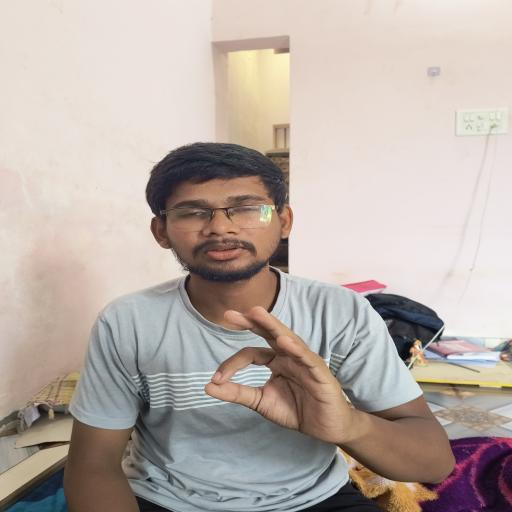Previous: (181, 295, 373, 459)
